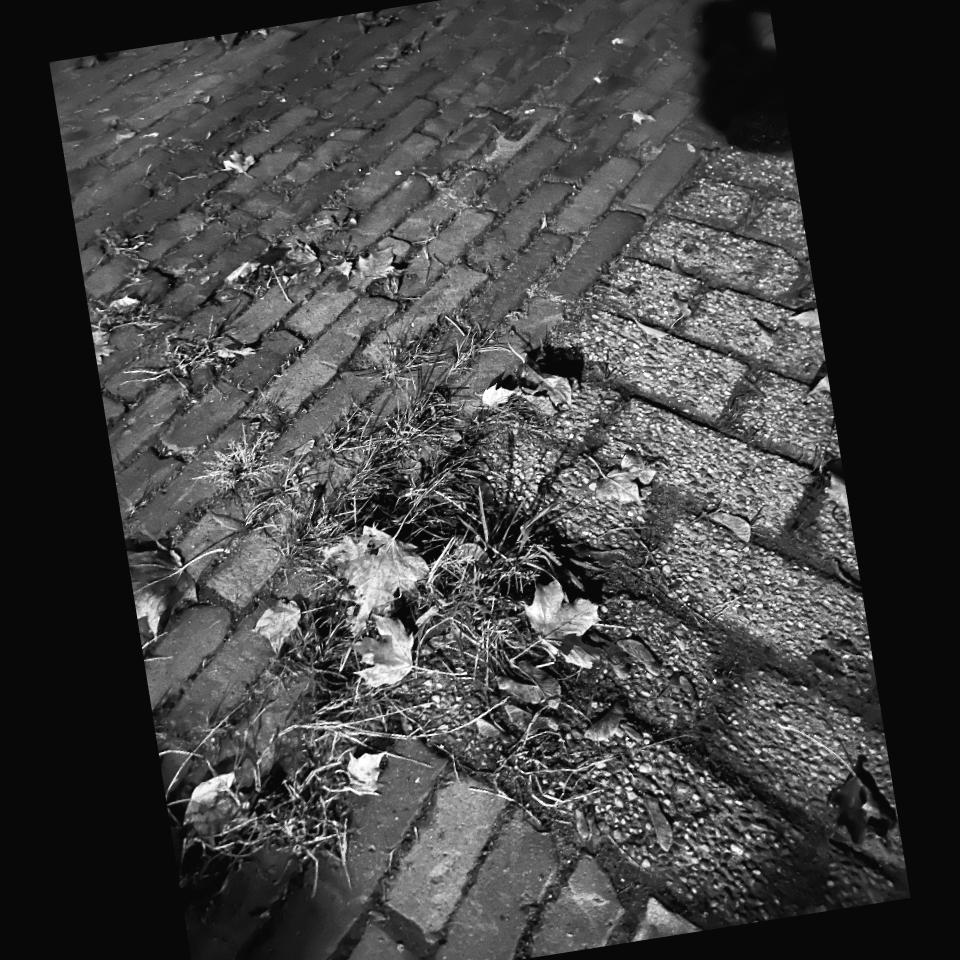weed: (200, 310, 558, 734), (226, 545, 309, 649), (90, 85, 179, 176), (231, 135, 327, 204)
